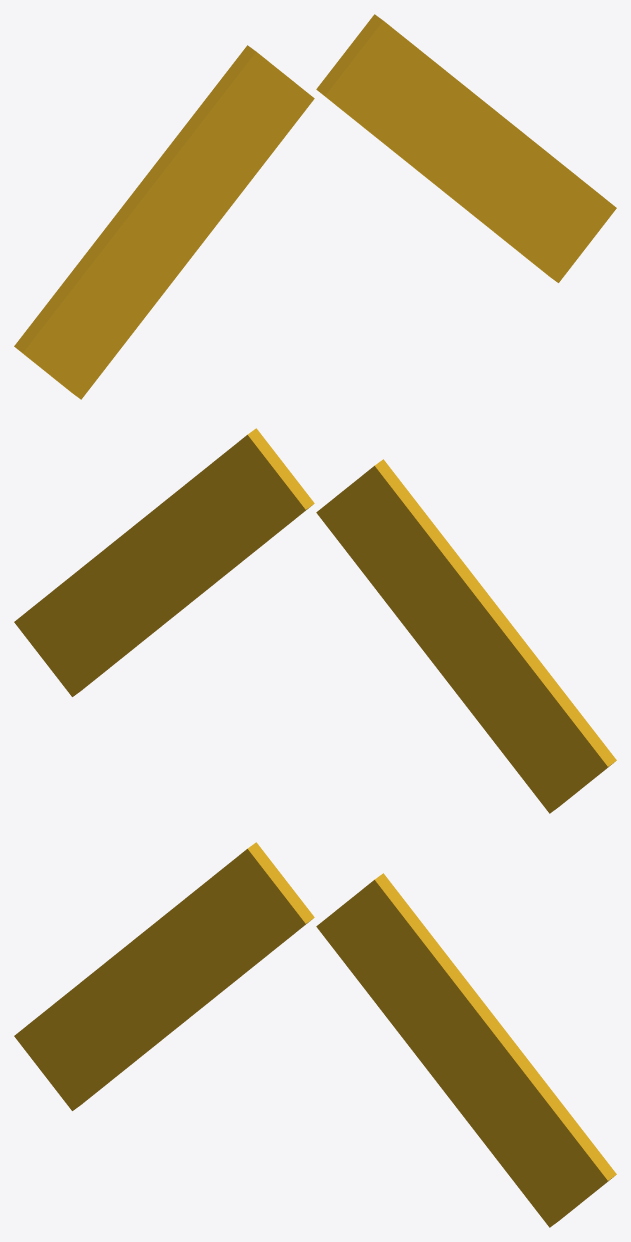
Rendered from wings.glb.
The picture shows the model from 3 angles, top to bottom: view 1: azimuth 30°, elevation 25°; view 2: azimuth 150°, elevation 25°; view 3: azimuth 330°, elevation 25°; orthographic projection.
Visible parts, largest first — view 1: cuboid (×2); view 2: cuboid (×2); view 3: cuboid (×2).
Boxes of the visible parts, box(x1,y1,x2,y2) form: cuboid (×2): box(14, 14, 616, 399); cuboid (×2): box(14, 428, 616, 813); cuboid (×2): box(14, 842, 616, 1227).
Size of the model in its own units: 3.6 by 1.77 by 0.0938.
